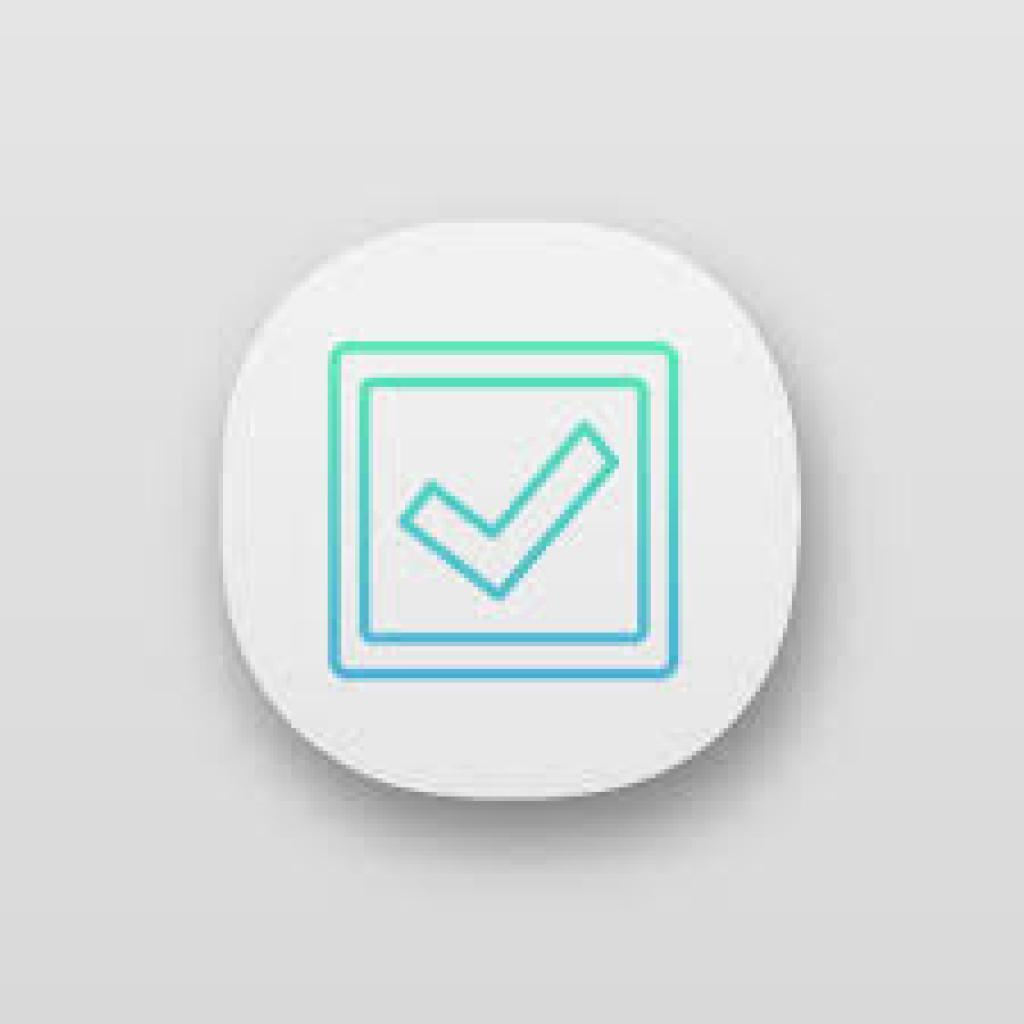checkbox: (308, 327, 702, 705)
